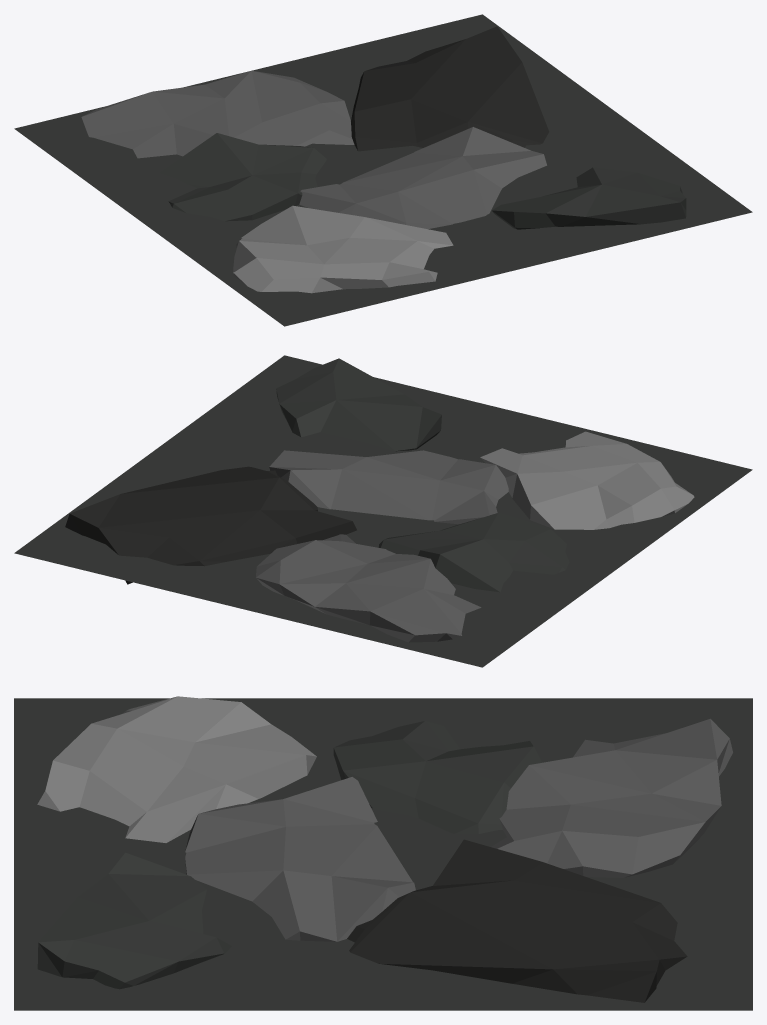
The model's file is ground4.fbx.
3 views of the same model, one above another, from view 1: azimuth 30°, elevation 25°; view 2: azimuth 150°, elevation 25°; view 3: azimuth 270°, elevation 25° (orthographic). The views are drawn at different scales.
Visible parts, largest first — view 1: ground4_LOD0; view 2: ground4_LOD0; view 3: ground4_LOD0.
Boxes of the visible parts, x1,y1,x2,y2 form: ground4_LOD0: (14, 14, 752, 326); ground4_LOD0: (14, 355, 752, 667); ground4_LOD0: (14, 696, 752, 1010).
Size of what is drawn, in the model's own units: 8 by 0.8037 by 8.
